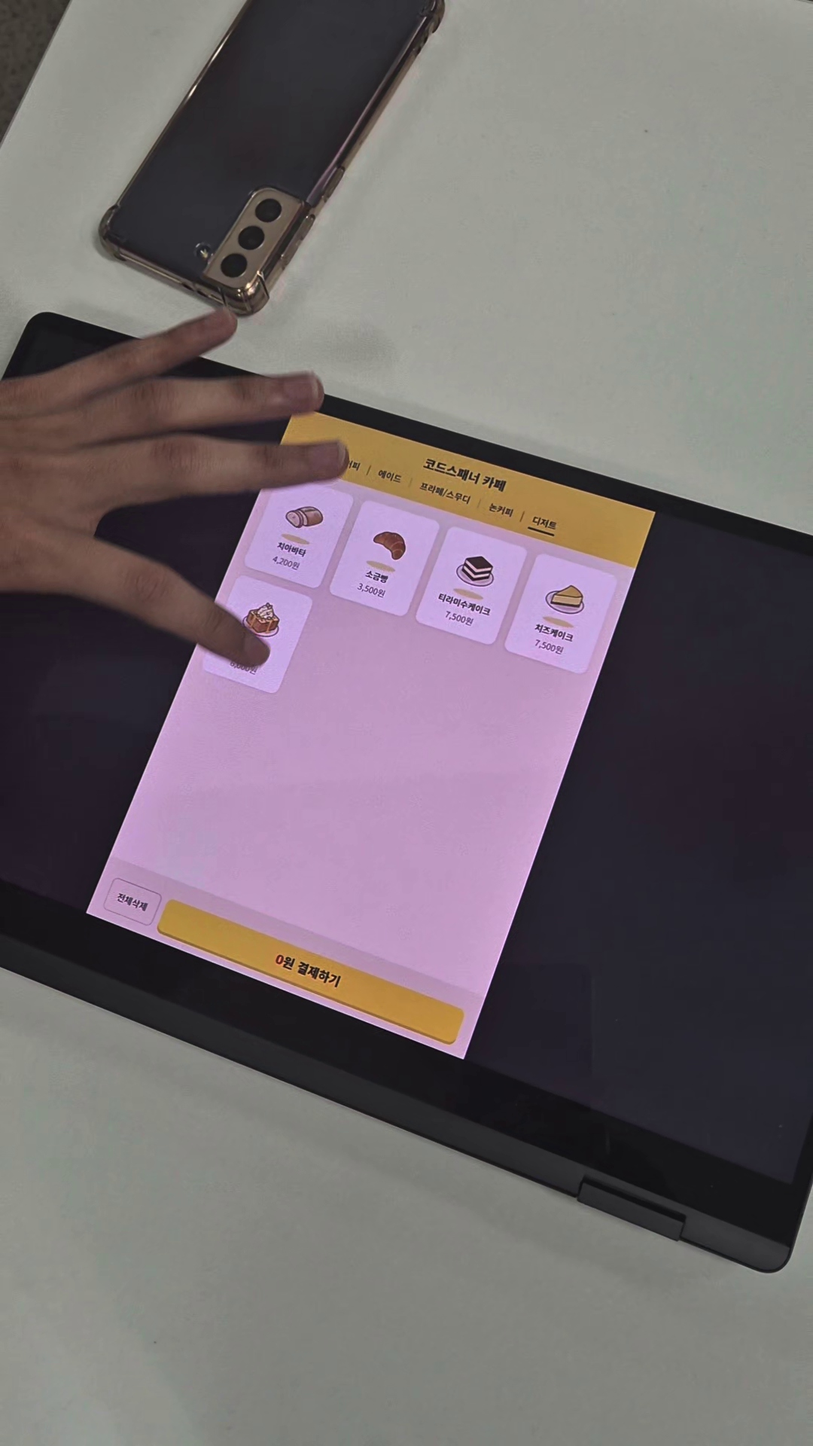action_button: (155, 897, 467, 1047), (102, 877, 163, 927)
category_tab: (418, 480, 473, 506), (487, 501, 515, 519), (376, 468, 404, 485), (531, 515, 558, 532)
menu_back: (502, 551, 620, 676), (199, 573, 315, 695), (413, 524, 529, 646), (327, 498, 441, 619), (242, 470, 356, 590)
menu_name: (436, 592, 492, 618), (533, 622, 575, 644), (275, 540, 308, 559), (363, 568, 390, 585)
